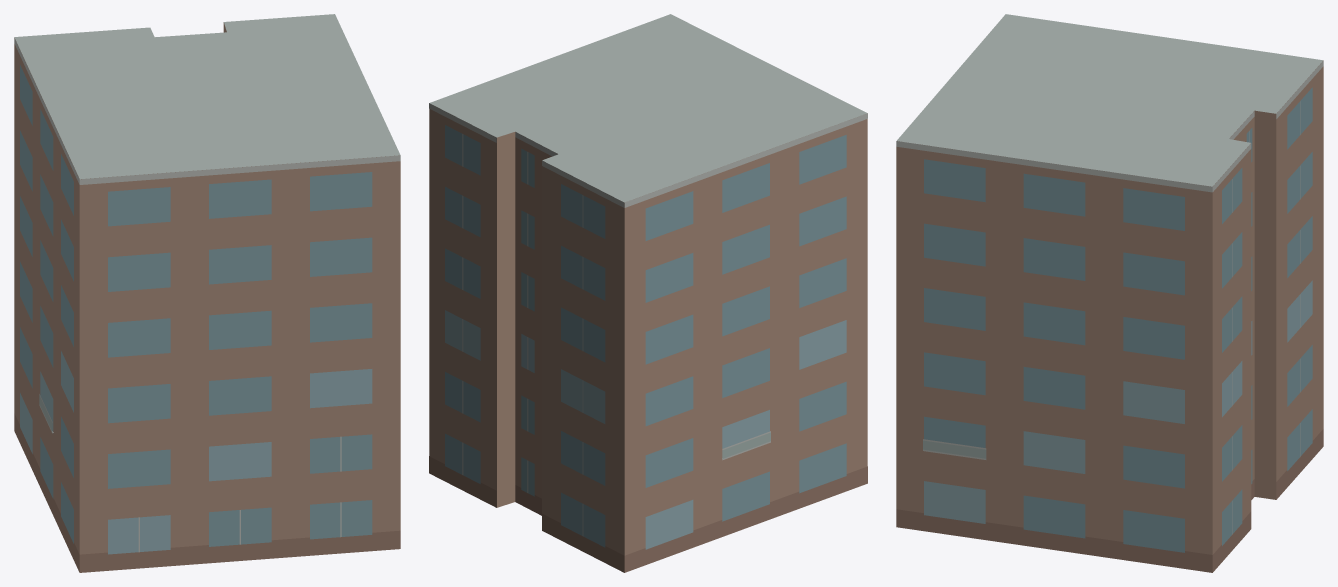
The model's file is survey-upis-32943908.glb.
3 renders of one model, left to right at view 1: azimuth 30°, elevation 25°; view 2: azimuth 150°, elevation 25°; view 3: azimuth 270°, elevation 25°, orthographic. The views are drawn at different scales.
Visible parts, largest first — view 1: survey-upis-32943908.tmp; view 2: survey-upis-32943908.tmp; view 3: survey-upis-32943908.tmp.
Boxes of the visible parts, bbox=[...] form: survey-upis-32943908.tmp: bbox=[14, 14, 400, 572]; survey-upis-32943908.tmp: bbox=[429, 14, 867, 572]; survey-upis-32943908.tmp: bbox=[896, 14, 1323, 572].
Bounding box in the file's own units: 15.69 × 16.35 × 16.4.
